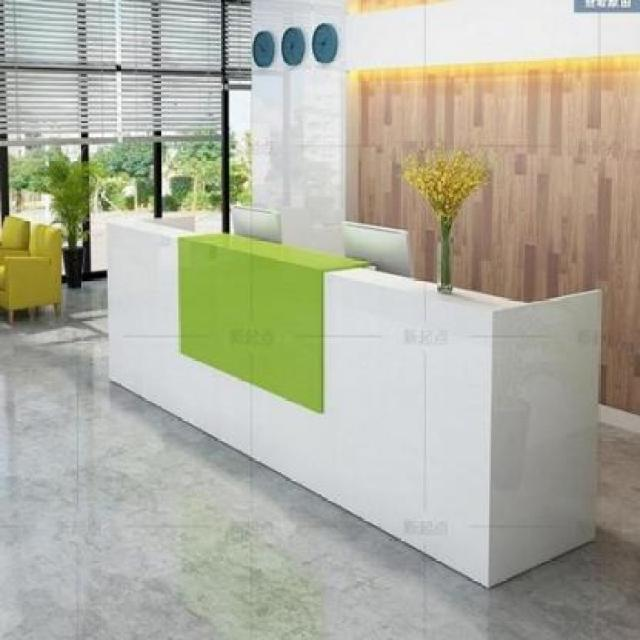frontdesk: (92, 191, 610, 602)
